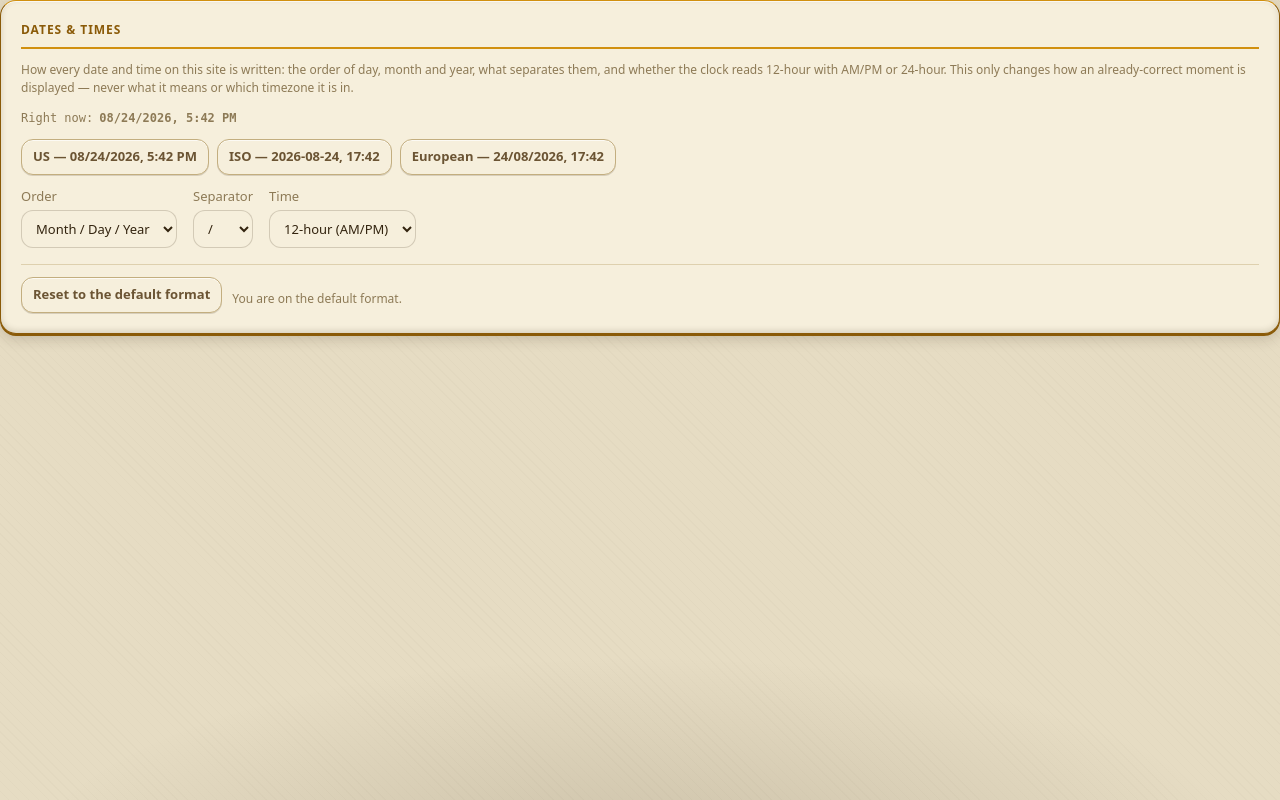
Test case: choosing a date/time format › a preset writes the whole preference to this account and updates the preview
The width and height of the screenshot is (1280, 800).
Click the button "ISO — 2026-08-24, 17:42" at (304, 157), box [217,139,392,174]
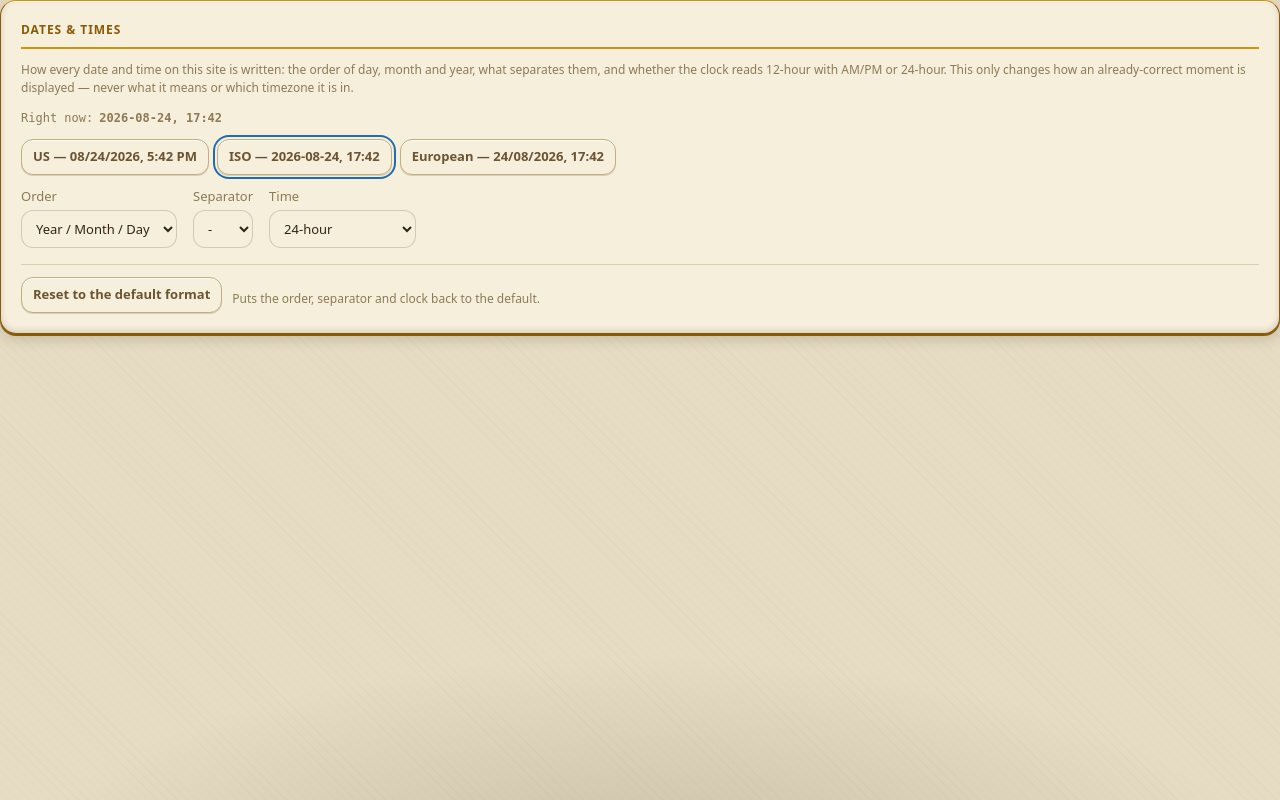
Expected: the text "2026-08-24, 17:42" is shown, [99,109,222,127]
